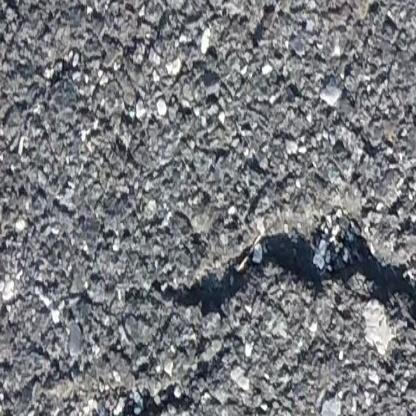Cracks: (157, 227, 416, 328), (111, 384, 190, 416)
